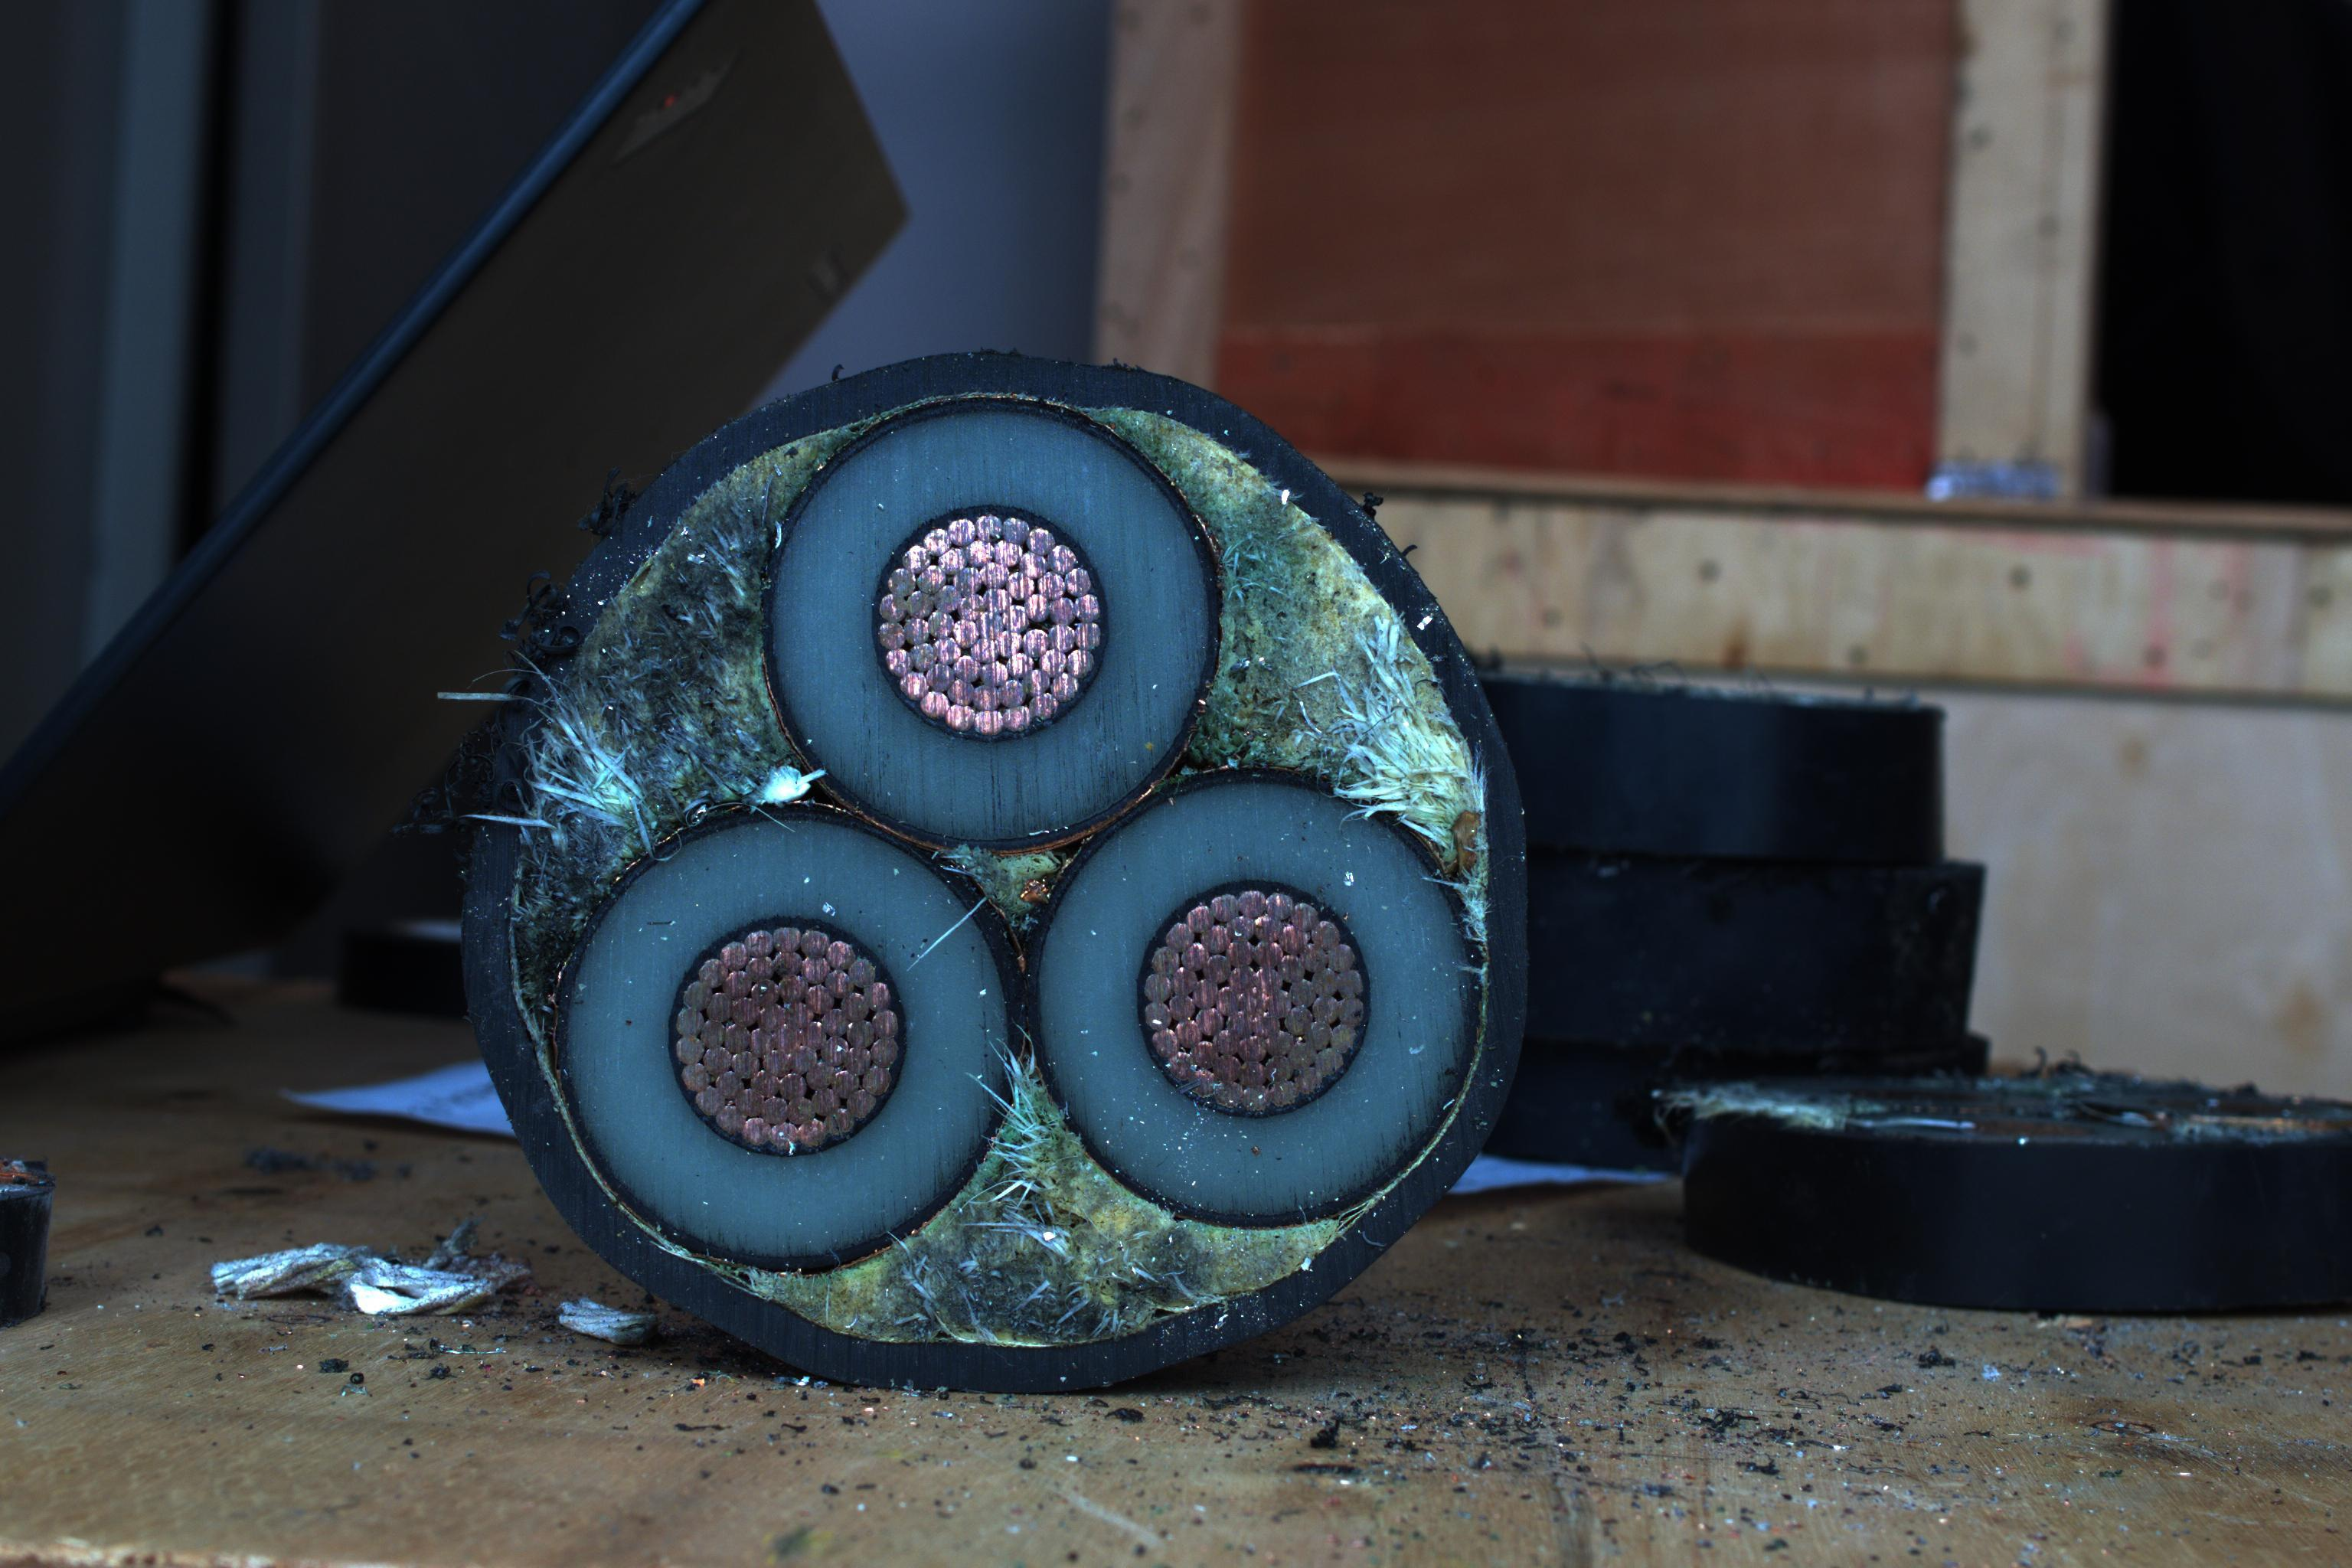ZA_YJV_26_35kV_3x400: (495, 385, 1514, 1372)
